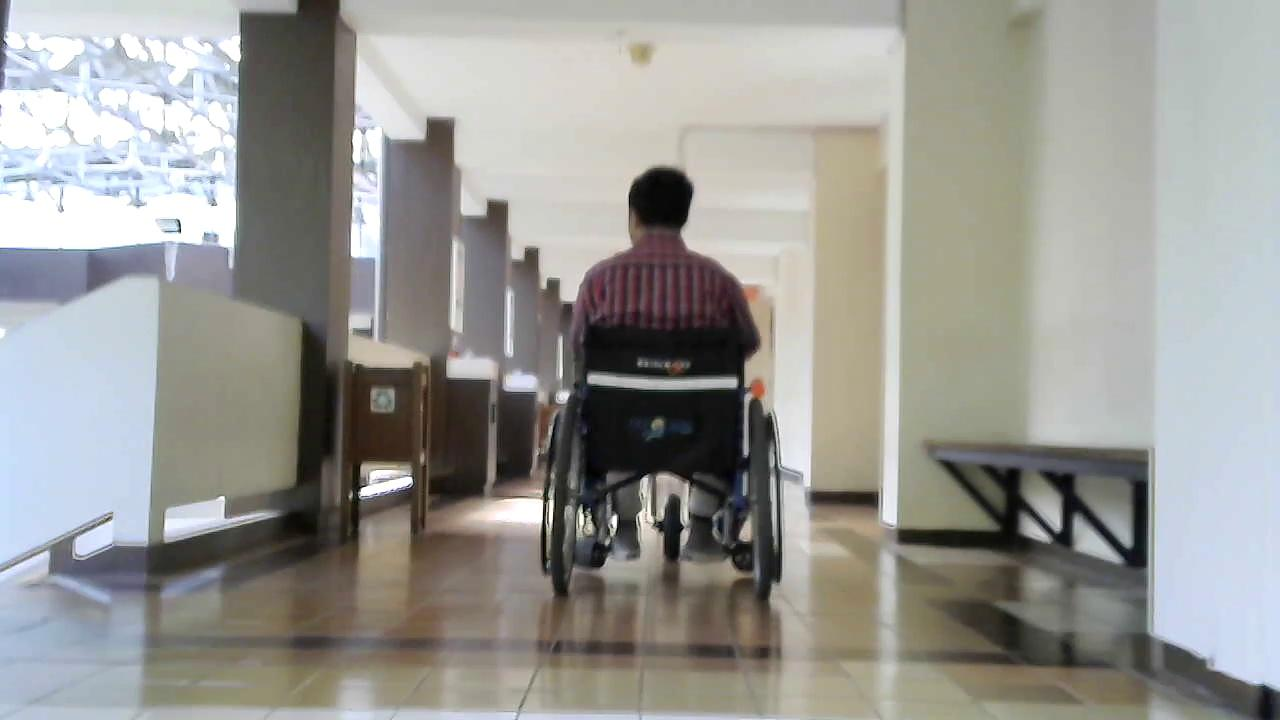person: (555, 165, 765, 575)
wheelchair: (509, 311, 800, 611)
